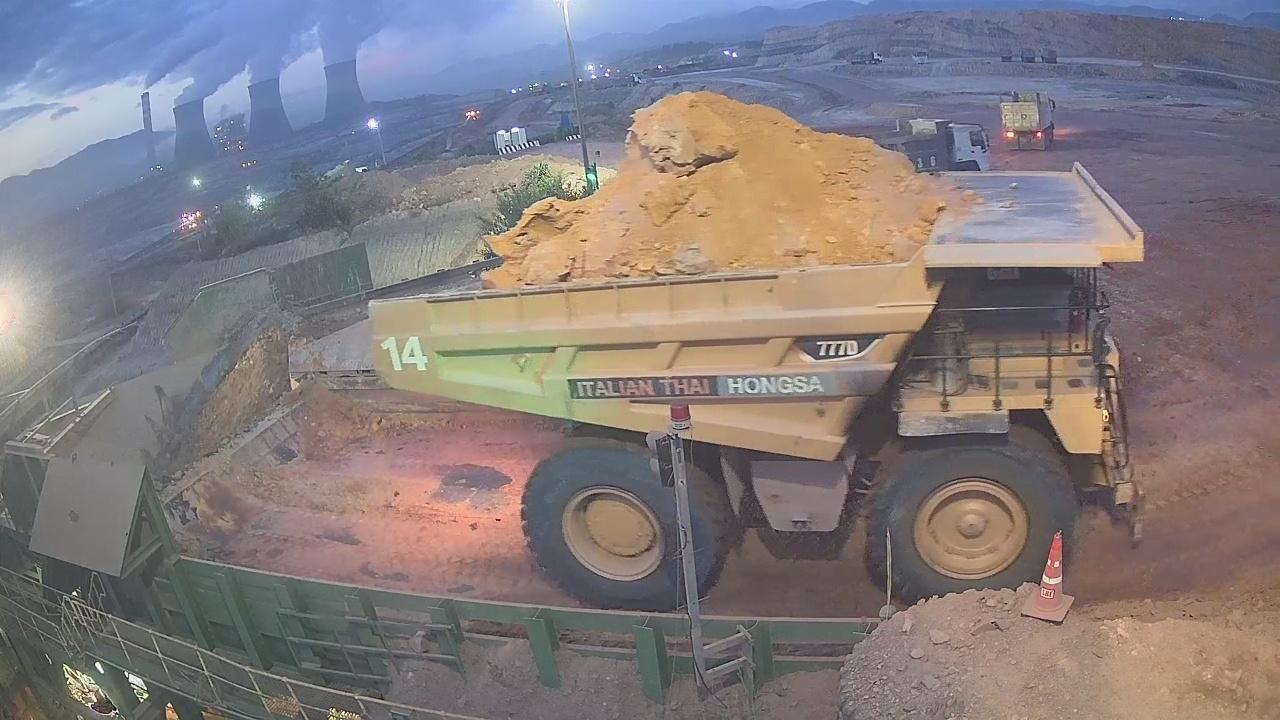company: (560, 370, 854, 407)
full_load: (483, 88, 956, 292)
mining_truck: (368, 41, 1150, 613)
tail_number: (378, 327, 434, 378)
truck_size: (792, 329, 894, 362)
